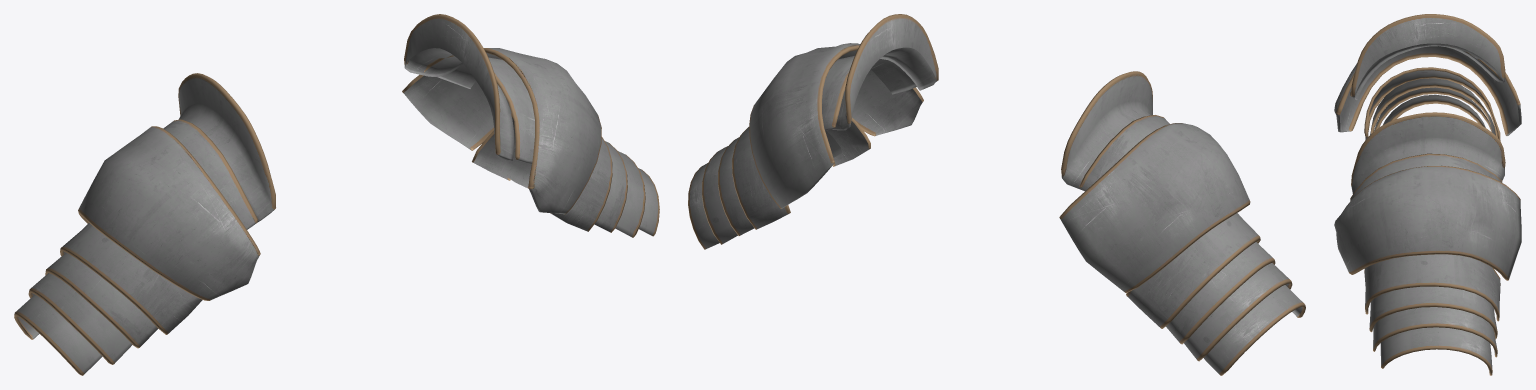
Rendered from swan_knight_pauldrons_b1.fbx.
The picture shows the model from 3 angles, left to right: view 1: azimuth 30°, elevation 25°; view 2: azimuth 150°, elevation 25°; view 3: azimuth 270°, elevation 25°; orthographic projection. The views are drawn at different scales.
Visible parts, largest first — view 1: swan_knight_pauldrons_b1; view 2: swan_knight_pauldrons_b1; view 3: swan_knight_pauldrons_b1.
Part boxes in pixels (x1,y1,x2,y2): swan_knight_pauldrons_b1: [14, 14, 659, 375]; swan_knight_pauldrons_b1: [688, 14, 1305, 375]; swan_knight_pauldrons_b1: [1334, 14, 1521, 375].
Size of the model in its own units: 0.7561 by 0.2425 by 0.2916.
Materials: 1 (1 with a texture image).
